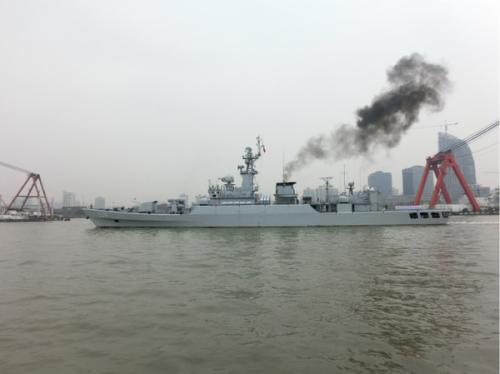smoke: (279, 54, 451, 179)
